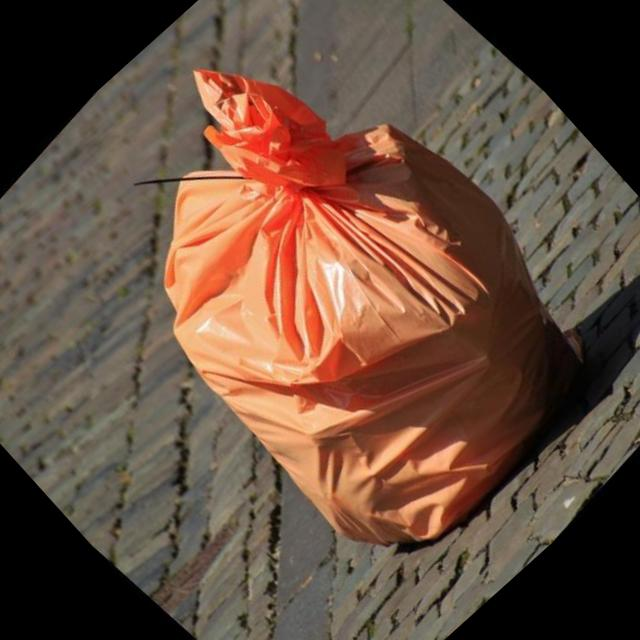KantongPlastik: (40, 0, 638, 587)
